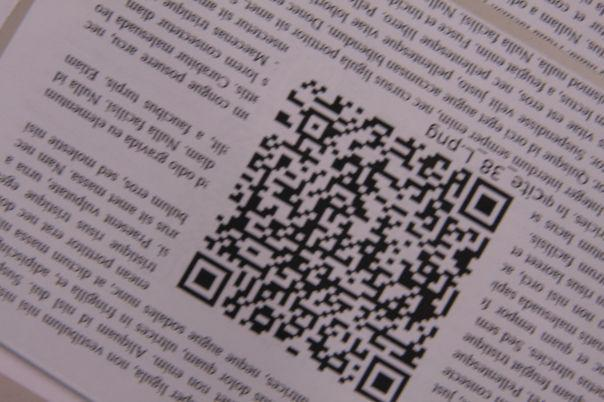Finder pattern: (176, 251, 232, 309), (353, 355, 412, 401), (461, 177, 512, 230)
